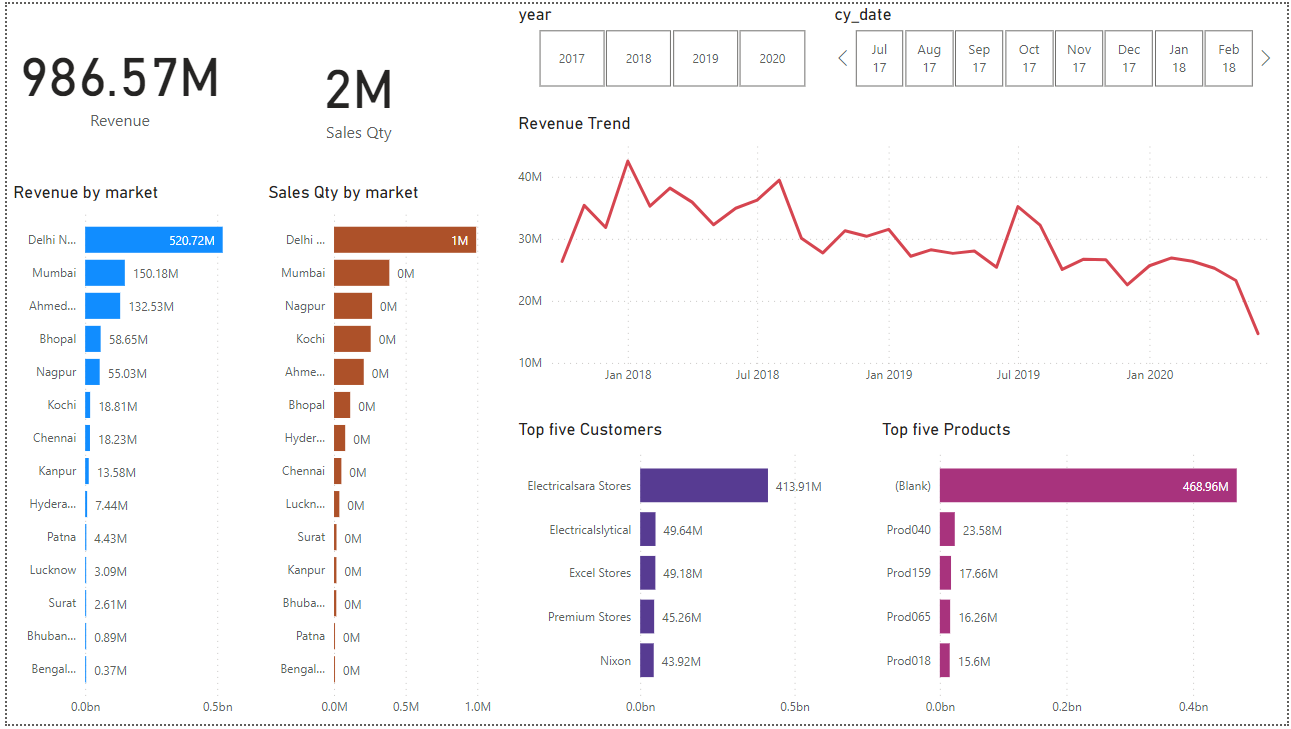

Layout of this report page (visuals, bound fields, positions):
{"tool":"powerbi","page":{"name":"Page 1","canvas":[1280,720],"ordinal":0},"visuals":[{"type":"card","fields":{"Values":["BaseMeasures.Revenue"]},"box":[1.4,0,223.7,153.7],"z":0},{"type":"card","fields":{"Values":["BaseMeasures.Sales Qty"]},"box":[240.1,0,236,177],"z":1000},{"type":"barChart","title":"Revenue by market","fields":{"Y":["BaseMeasures.Revenue"],"Category":["sales markets.markets_name"]},"box":[1.4,177,255.2,543.4],"z":2000},{"type":"barChart","title":"Sales Qty by market","fields":{"Y":["BaseMeasures.Sales Qty"],"Category":["sales markets.markets_name"]},"box":[256.6,177,233.3,543.4],"z":3000},{"type":"slicer","title":"year","fields":{"Values":["sales date.year"]},"box":[506.3,0,315.6,89.2],"z":4000},{"type":"slicer","title":"cy_date","fields":{"Values":["sales date.cy_date"]},"box":[822,0,447.3,89.2],"z":4001},{"type":"barChart","title":"Top five Customers","fields":{"Category":["sales customers.custmer_name"],"Y":["BaseMeasures.Revenue"]},"box":[506.3,414.4,332.1,306],"z":4002},{"type":"barChart","title":"Top five Products","fields":{"Y":["BaseMeasures.Revenue"],"Category":["sales products.product_code"]},"box":[870,414.4,399.3,306],"z":4003},{"type":"lineChart","title":"Revenue Trend","fields":{"Y":["BaseMeasures.Revenue"],"Category":["sales date.cy_date.Variation.Date Hierarchy.Year","sales date.cy_date.Variation.Date Hierarchy.Quarter","sales date.cy_date.Variation.Date Hierarchy.Month","sales date.cy_date.Variation.Date Hierarchy.Day"]},"box":[506.3,108.4,773.9,279.9],"z":4004}]}

Visuals, with their boxes in screenshot pixels (x1, y1, x2, y2), scaled from the page's 1280x720 canvas onto the 1291x729 screenshot:
card - BaseMeasures.Revenue: [1, 0, 227, 156]
card - BaseMeasures.Sales Qty: [242, 0, 480, 179]
"Revenue by market" barChart: [1, 179, 259, 728]
"Sales Qty by market" barChart: [259, 179, 494, 728]
"year" slicer: [511, 0, 829, 90]
"cy_date" slicer: [829, 0, 1280, 90]
"Top five Customers" barChart: [511, 420, 846, 728]
"Top five Products" barChart: [877, 420, 1280, 728]
"Revenue Trend" lineChart: [511, 110, 1290, 393]
